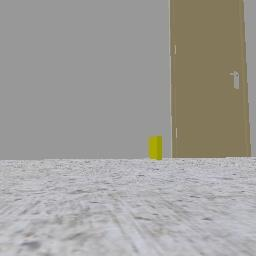galben: (149, 136, 161, 159)
